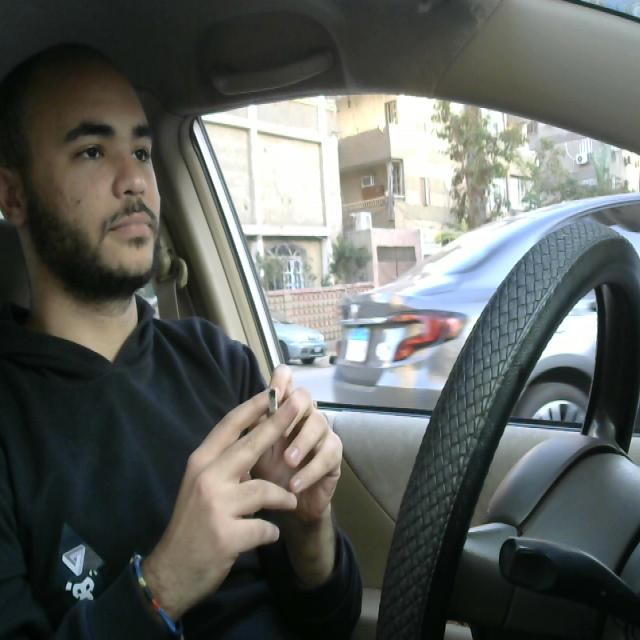smoking: (265, 382, 283, 434)
